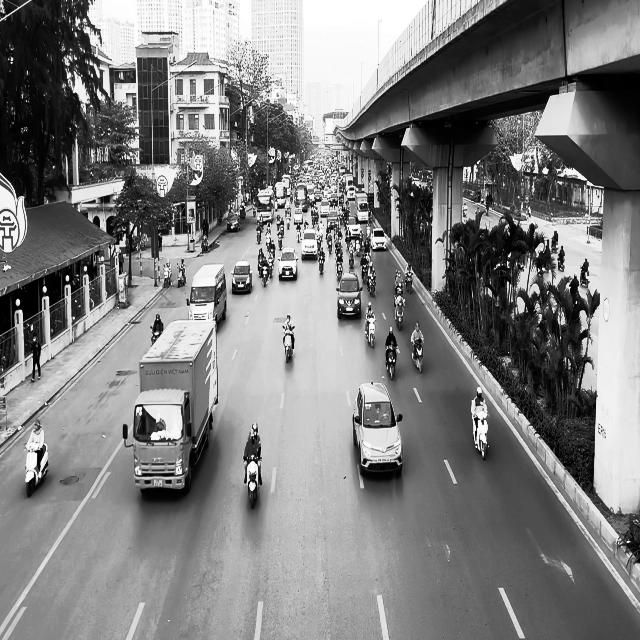car: (352, 381, 403, 476), (336, 272, 363, 319), (231, 260, 253, 294), (278, 247, 298, 280), (301, 228, 318, 260), (370, 229, 387, 250), (227, 212, 240, 232)
motorbike: (24, 442, 49, 497), (243, 454, 262, 509), (471, 411, 489, 460), (386, 343, 400, 380), (282, 326, 295, 364), (411, 340, 424, 373), (394, 295, 405, 330), (365, 315, 375, 348), (150, 322, 163, 345), (317, 246, 325, 274), (177, 264, 186, 287), (580, 267, 590, 287), (163, 266, 172, 287), (405, 272, 412, 293), (558, 255, 564, 271)
truck: (122, 318, 218, 494), (187, 264, 227, 326)
